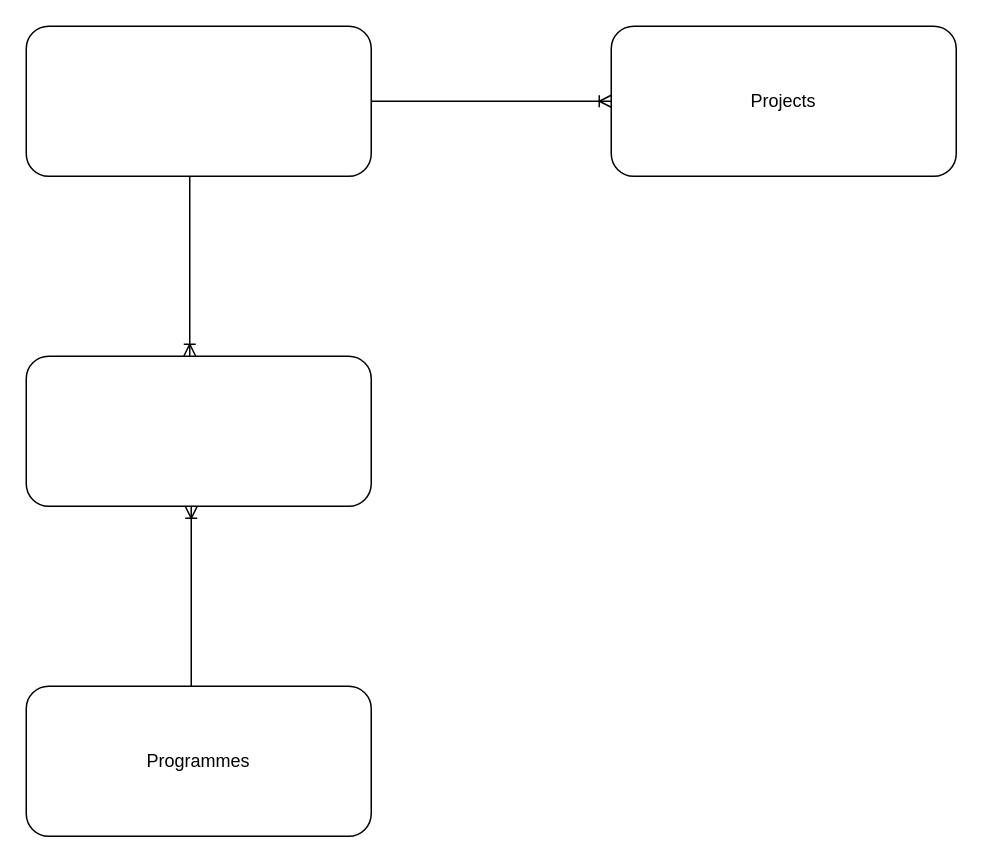
Some shapes in this 983 by 863 pixel diagram are drawn without their labels. The centre of each missing label's shape, as x and y in pixels:
Student_Programme: the point at 198,430
Students: the point at 198,100
